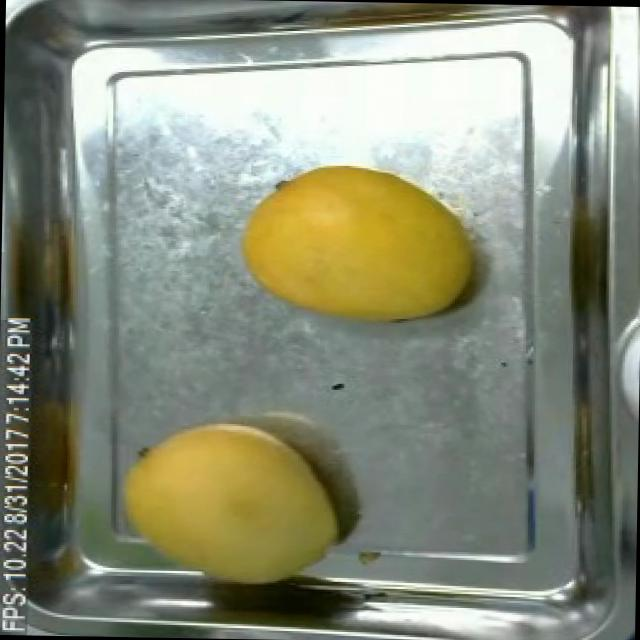fruit: (107, 407, 356, 600), (233, 152, 489, 336)
